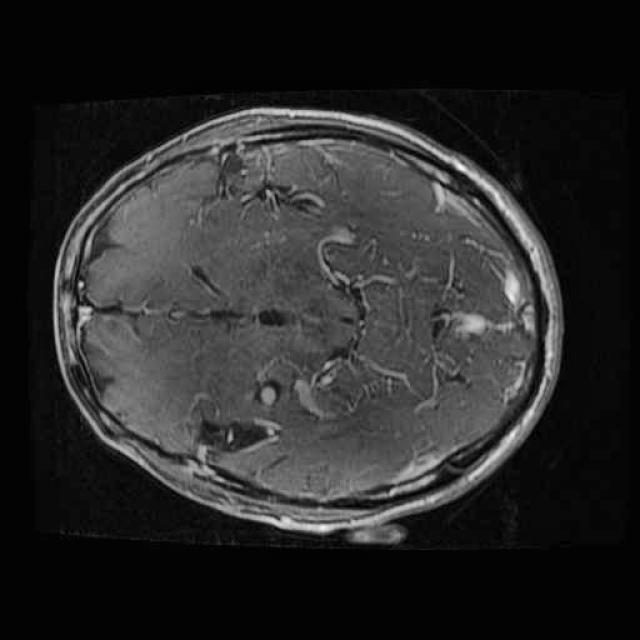Non-Tumor: (251, 366, 295, 420)
